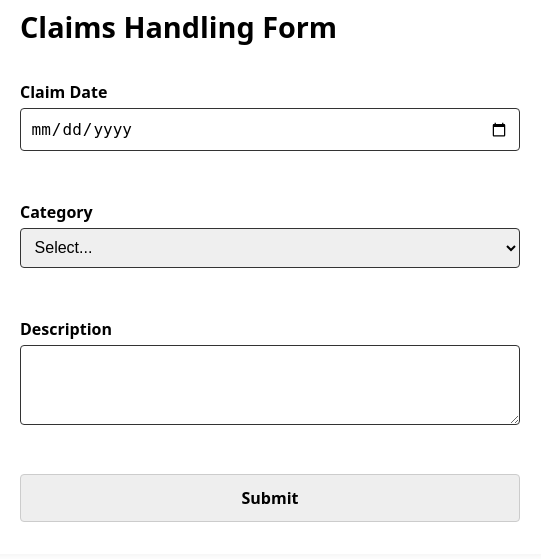
Test: ClaimsForm › shows error message if submission fails
This screenshot has width=541, height=559.
Step 1. Type "2025-06-27" into the date field labelled "Claim Date" → (270, 130), box [20,108,520,151]
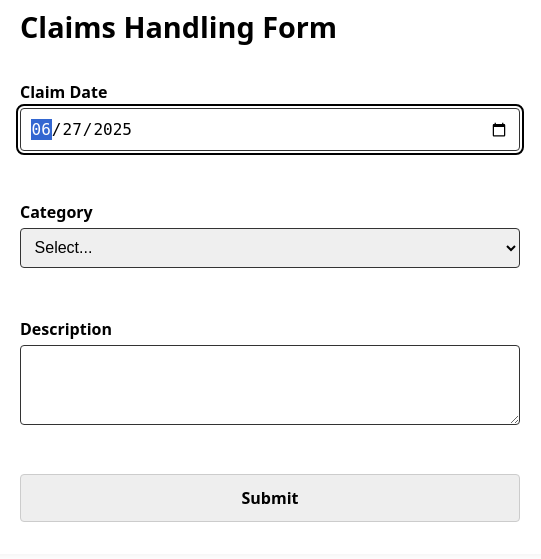
Step 2. Select "Loss" in the dropdown labelled "Category" → (270, 248), box [20,228,520,268]
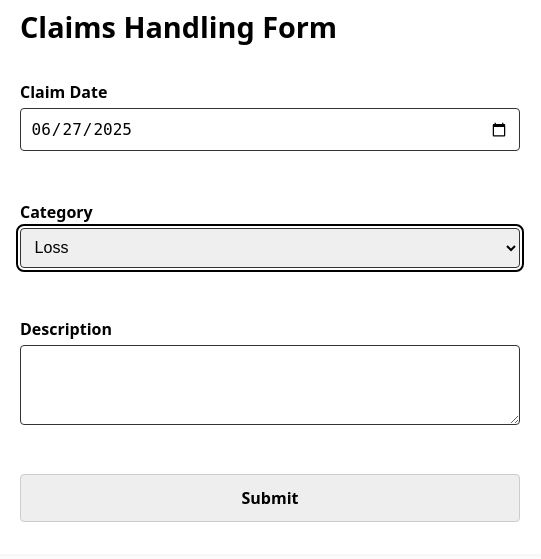
Step 3. Type "Dropped phone in river" into the text box labelled "Description" → (270, 385), box [20,345,520,425]
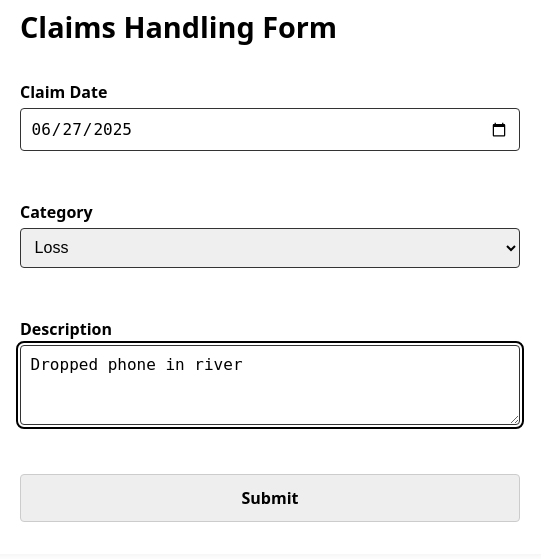
Step 4. Click the button "Submit" → (270, 498), box [20,474,520,522]
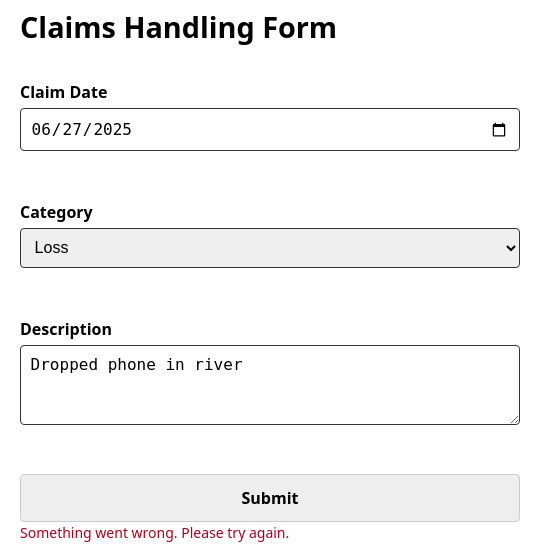
Expected: the text "Something went wrong. Please try again." is shown, [20,523,289,542]
